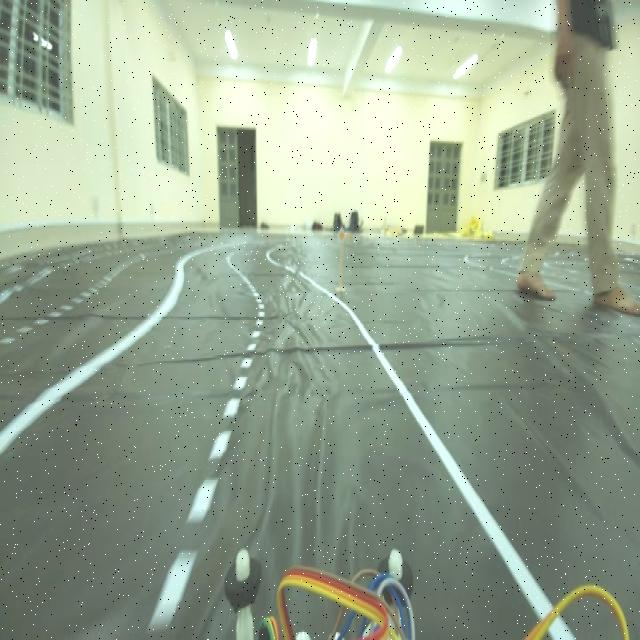priority: (335, 225, 347, 244)
